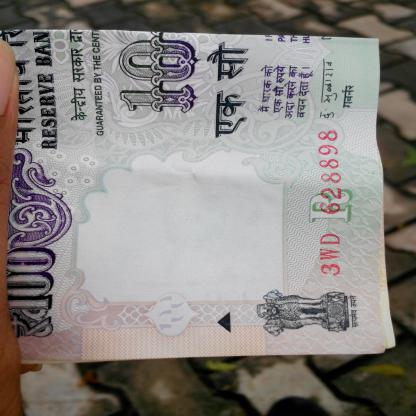Old100Front: (0, 27, 402, 367)
